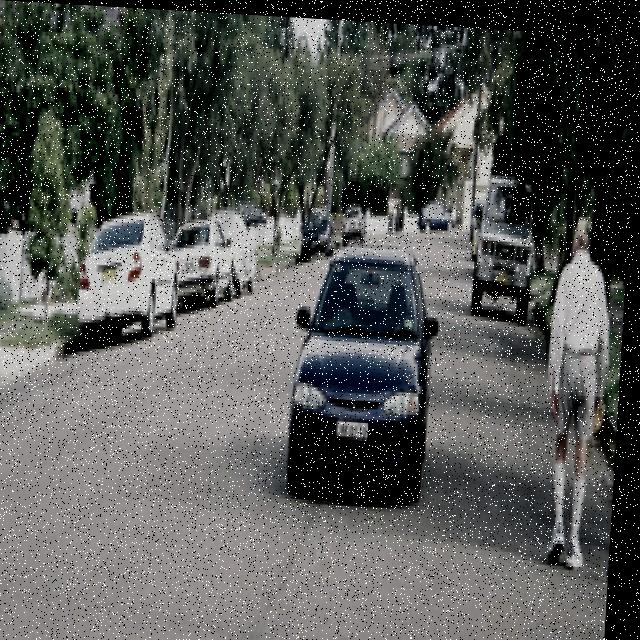license_plate: (336, 398, 380, 448)
